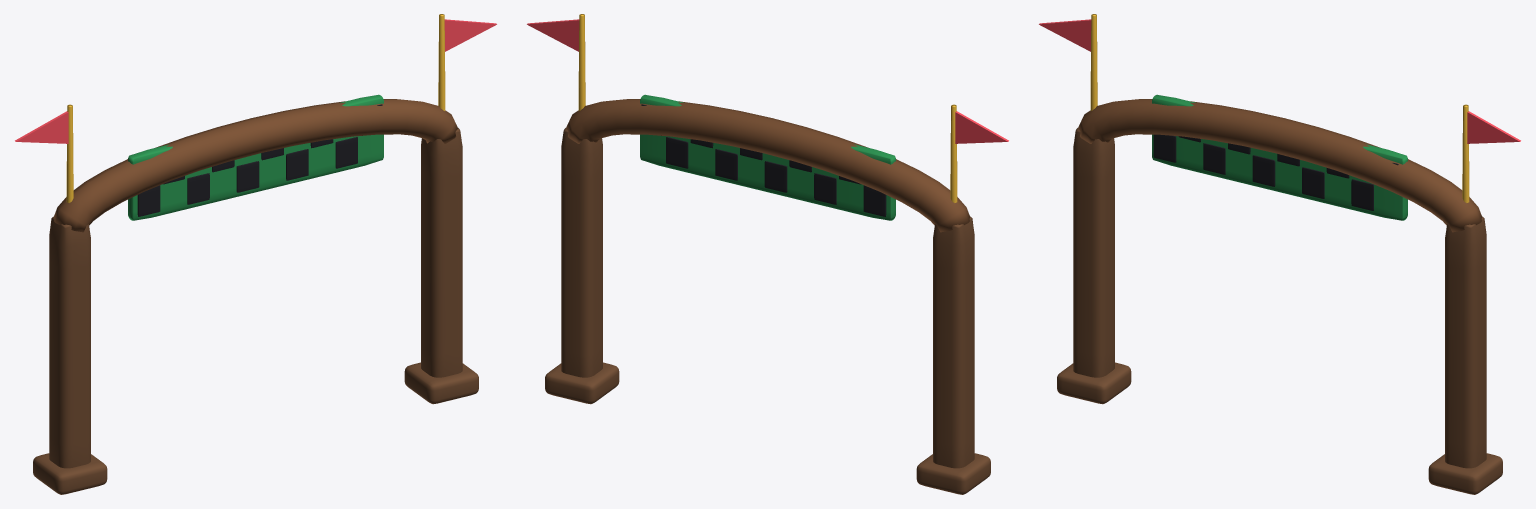
File: DiceDashArchFinish.obj
The picture shows the model from 3 angles, left to right: view 1: azimuth 30°, elevation 25°; view 2: azimuth 150°, elevation 25°; view 3: azimuth 330°, elevation 25°; orthographic projection.
Visible parts, largest first — view 1: Posts, Beam, Banner, Checks, Flags, Poles; view 2: Posts, Beam, Banner, Checks, Flags, Poles; view 3: Posts, Beam, Banner, Checks, Flags, Poles.
Part boxes in pixels (left/top/right/bottom): Posts: left=33, top=128, right=478, bottom=494; Beam: left=53, top=99, right=458, bottom=232; Banner: left=128, top=94, right=383, bottom=220; Checks: left=137, top=104, right=382, bottom=216; Flags: left=15, top=19, right=496, bottom=143; Poles: left=66, top=14, right=445, bottom=202; Posts: left=545, top=128, right=990, bottom=494; Beam: left=566, top=99, right=970, bottom=232; Banner: left=640, top=94, right=895, bottom=220; Checks: left=641, top=104, right=886, bottom=216; Flags: left=527, top=19, right=1008, bottom=143; Poles: left=578, top=14, right=957, bottom=202; Posts: left=1057, top=128, right=1502, bottom=494; Beam: left=1078, top=99, right=1482, bottom=232; Banner: left=1152, top=94, right=1407, bottom=220; Checks: left=1153, top=134, right=1398, bottom=210; Flags: left=1039, top=19, right=1520, bottom=143; Poles: left=1090, top=14, right=1469, bottom=202.
Size of the model in its own units: 22.8 by 17 by 2.4.
